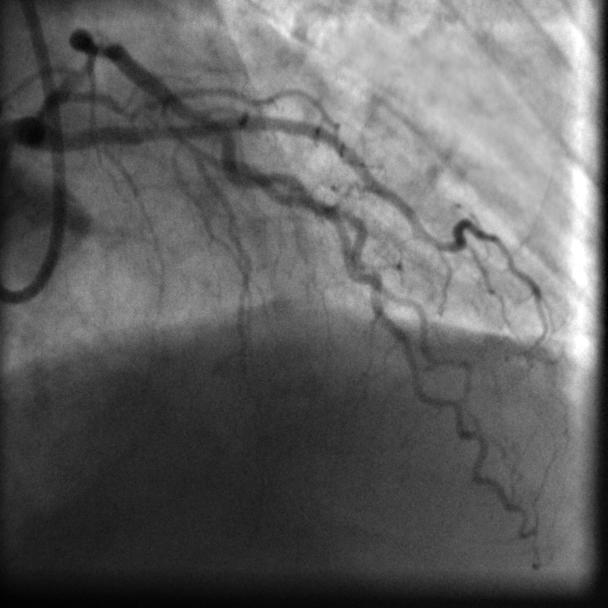Stenosis: (82, 26, 119, 63)
